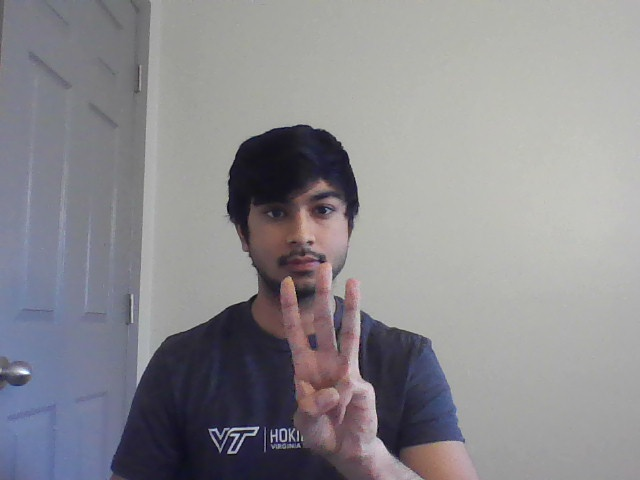three: (272, 260, 392, 448)
